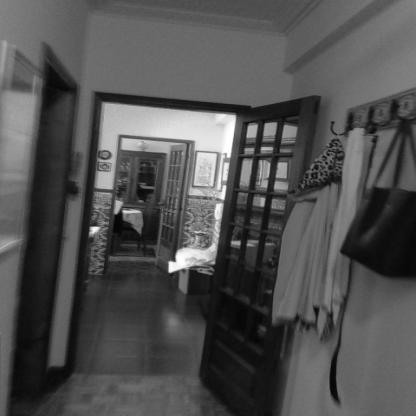open: (62, 77, 338, 416)
